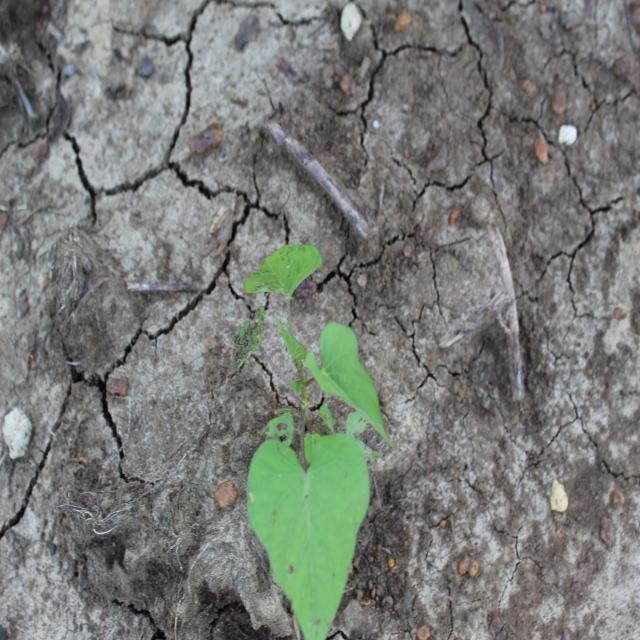MorningGlory: (226, 239, 398, 639)
